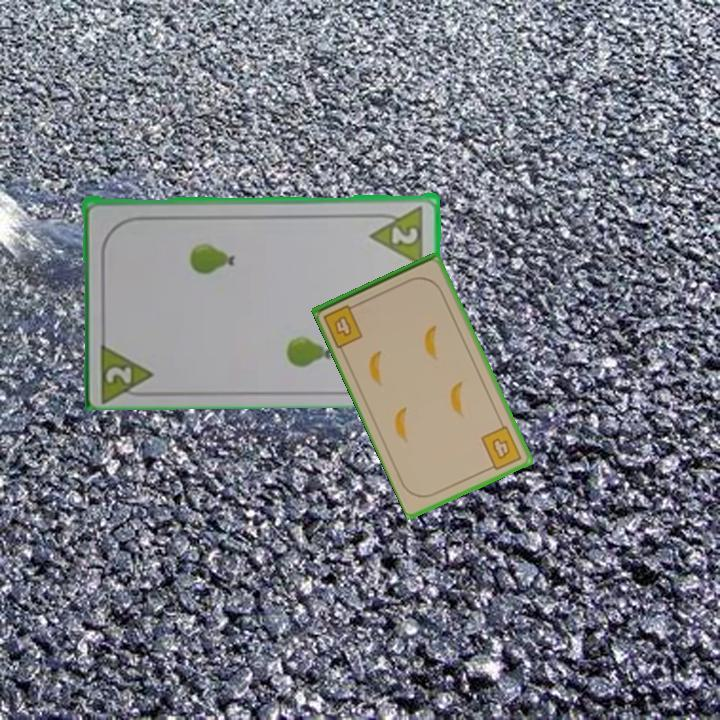2p: (97, 336, 158, 401), (367, 201, 427, 265)
4b: (477, 422, 525, 474), (320, 300, 366, 351)
